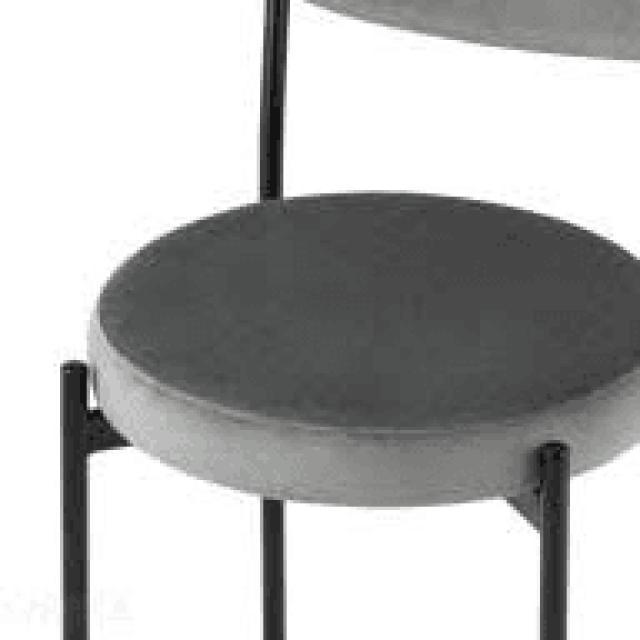chair: (50, 0, 640, 640), (87, 0, 640, 511)
